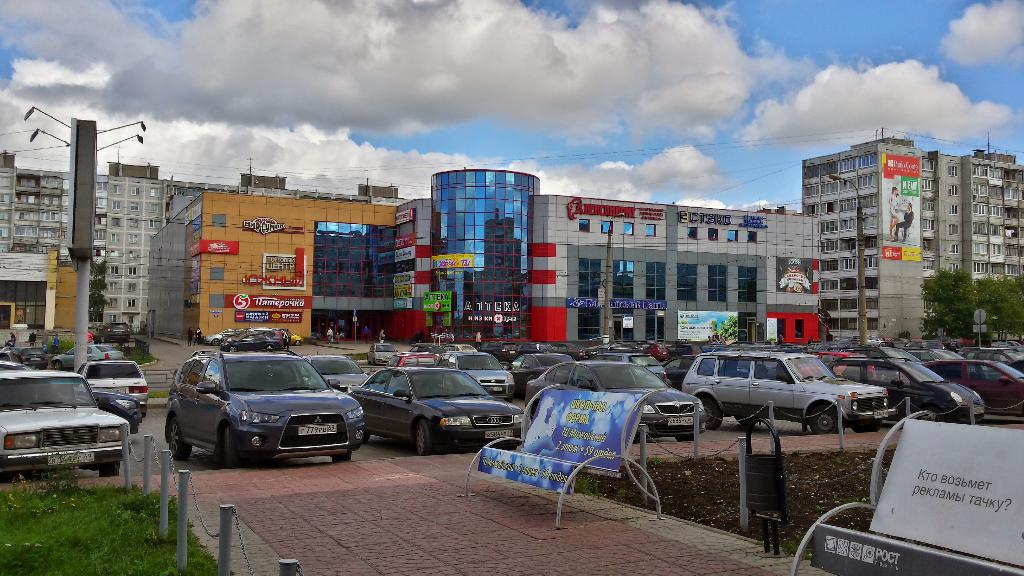car: (155, 336, 386, 469), (345, 351, 531, 459), (682, 341, 876, 439), (531, 345, 715, 448), (1, 358, 135, 482), (843, 349, 978, 426), (80, 343, 172, 414), (935, 350, 1024, 412), (448, 344, 531, 401)
